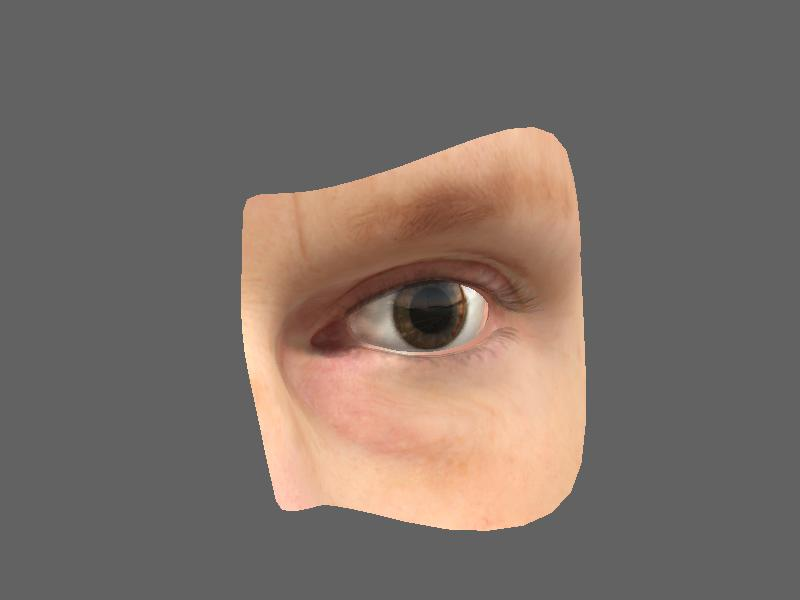iris: (395, 285, 472, 343)
